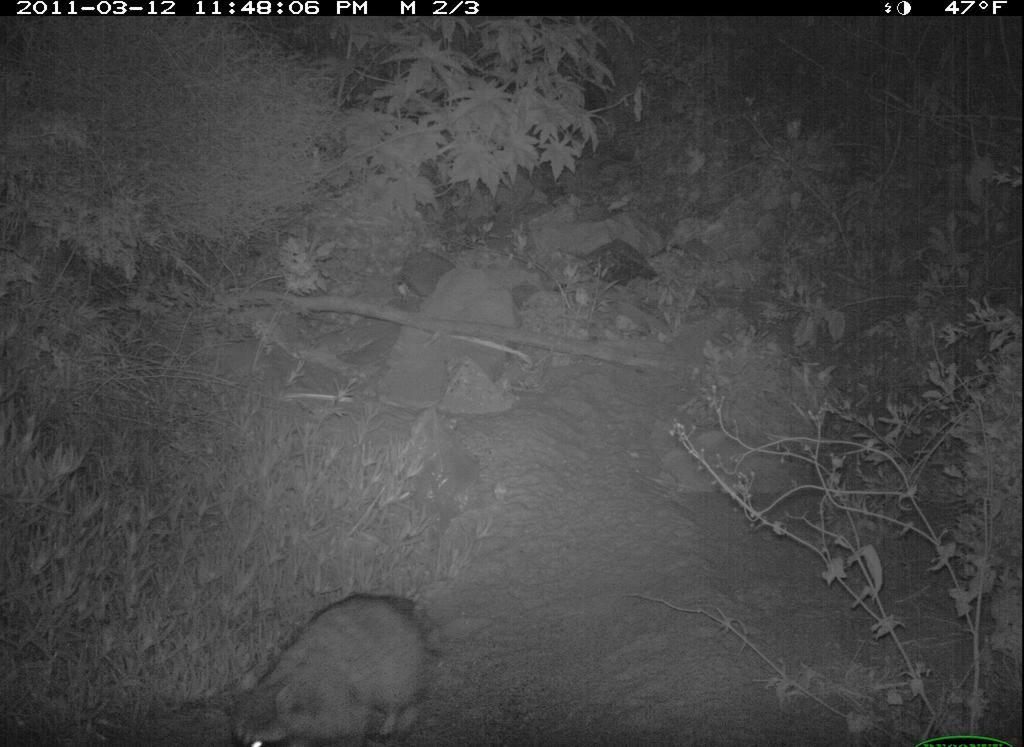raccoon: (201, 583, 465, 745)
